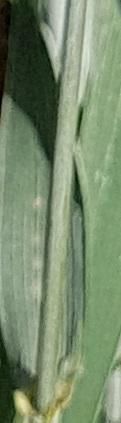Potato: (47, 153, 118, 422)
